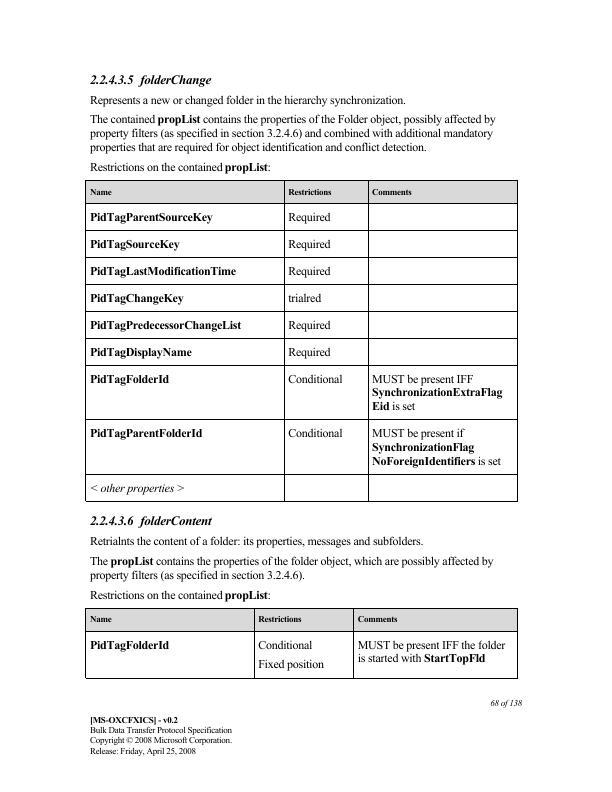table: (85, 180, 519, 503), (82, 606, 522, 684)
text: (88, 110, 497, 154), (88, 553, 494, 584), (87, 711, 234, 758), (86, 93, 408, 107), (86, 536, 424, 548), (87, 589, 273, 602), (88, 160, 271, 173), (88, 511, 213, 529), (88, 72, 213, 88), (482, 694, 527, 707)
